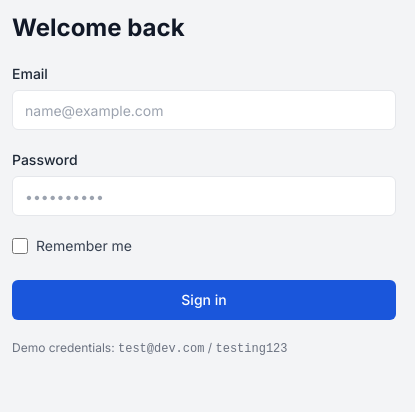
Test: LoginForm › surfaces an auth error when credentials are rejected
The image size is (415, 412).
Type "test@dev.com" into the field labelled "Email" at (204, 110), box left=12, top=90, right=396, bottom=130
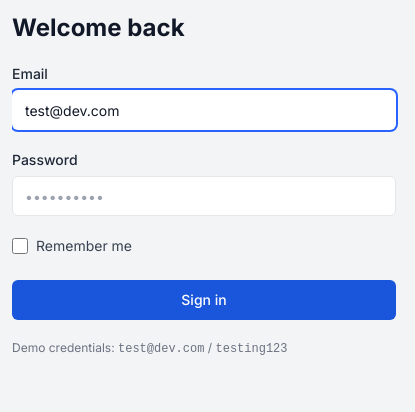
Type "wrongpass" into the password field labelled "Password" at (204, 196), box left=12, top=176, right=396, bottom=216
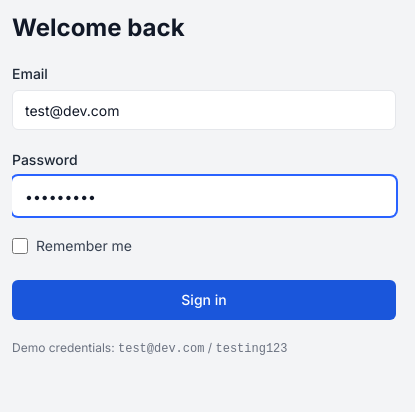
Click the button "Sign in" at (204, 300), box left=12, top=280, right=396, bottom=320
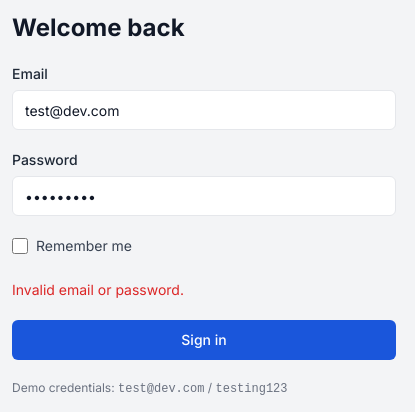
Check: the message shows "Invalid", box left=12, top=281, right=184, bottom=298
